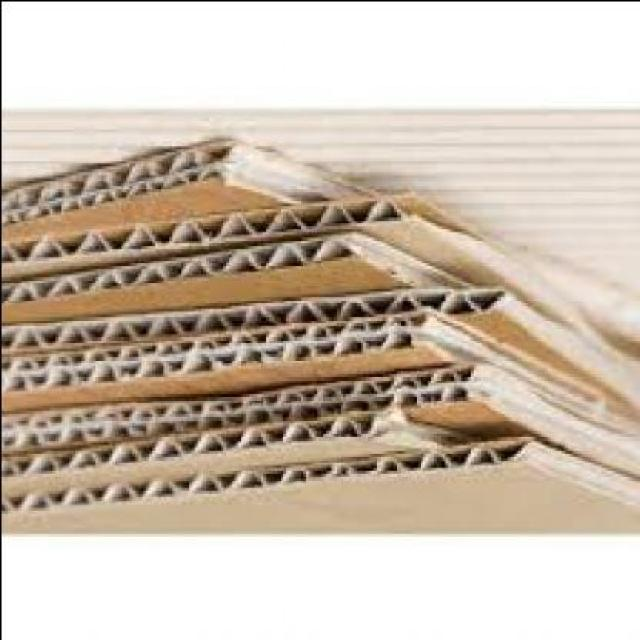CARDBOARD: (3, 289, 639, 422), (3, 312, 639, 434), (3, 366, 639, 482), (3, 436, 639, 538), (3, 188, 639, 289), (3, 239, 639, 326), (3, 416, 459, 490), (2, 139, 373, 199)
